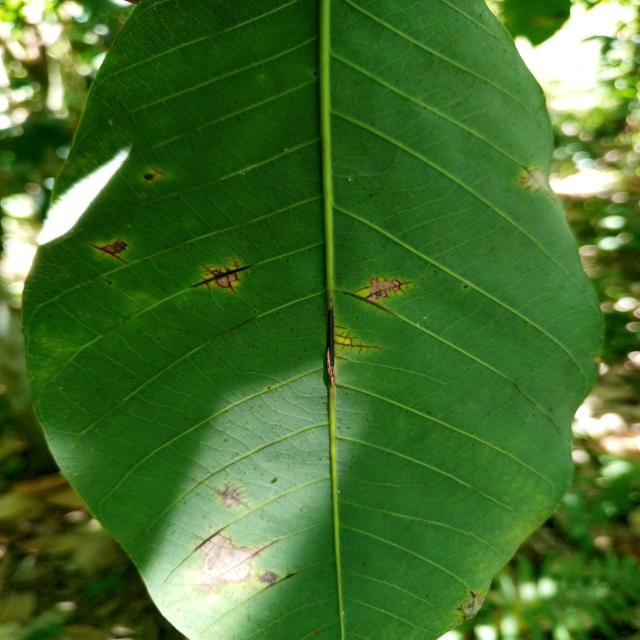Colletotrichum: (144, 173, 154, 180)
Corynespora: (327, 309, 382, 367), (345, 275, 417, 313), (190, 257, 253, 295), (90, 234, 133, 265), (208, 483, 250, 510)
Leaf-Blight: (202, 535, 257, 581), (460, 594, 485, 620)
